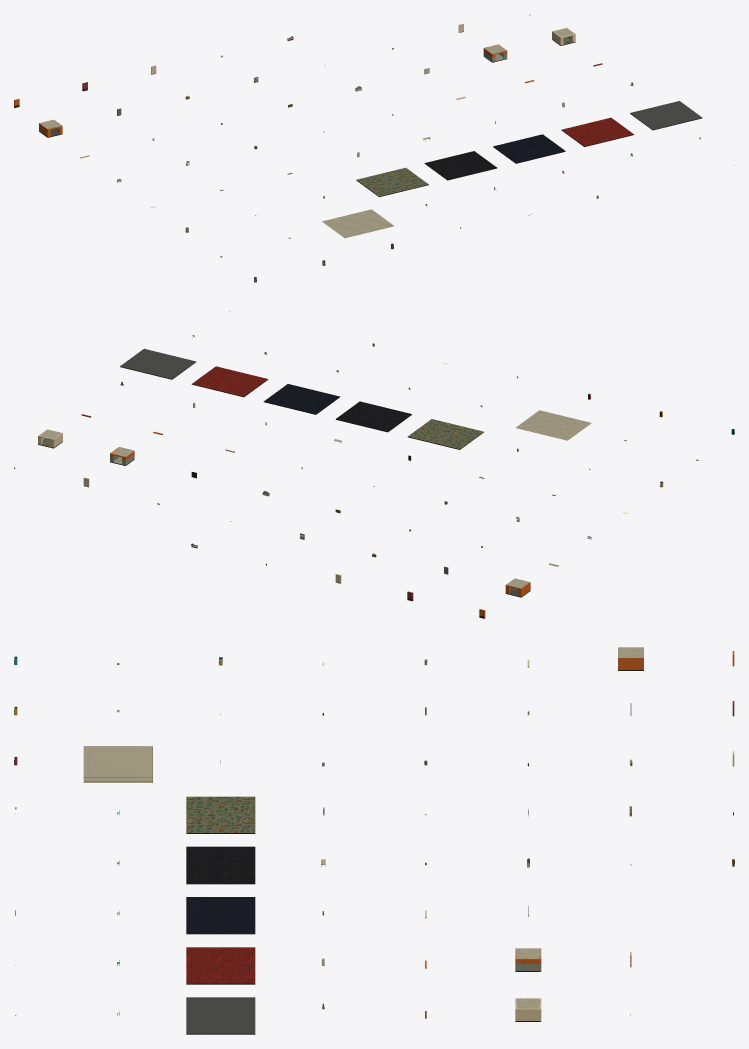
Rendered from Level6_Revised_ReusableKit.fbx.
3 views of the same model, one above another, from view 1: azimuth 30°, elevation 25°; view 2: azimuth 150°, elevation 25°; view 3: azimuth 270°, elevation 25° (orthographic). The views are drawn at different scales.
Parts seen in each view (by area): view 1: L6K_FloorBeige__carpet_beige, L6K_FloorDefault__L6R_carpet_default, L6K_FloorRed__carpet_red, L6K_FloorOrange__carpet_confetti, L6K_FloorService__linoleum, L6K_Ceiling__ceiling; view 2: L6K_FloorDefault__L6R_carpet_default, L6K_FloorBeige__carpet_beige, L6K_FloorRed__carpet_red, L6K_FloorService__linoleum, L6K_FloorOrange__carpet_confetti, L6K_Ceiling__ceiling; view 3: L6K_FloorDefault__L6R_carpet_default, L6K_FloorRed__carpet_red, L6K_FloorService__linoleum, L6K_Ceiling__ceiling, L6K_FloorBeige__carpet_beige, L6K_FloorOrange__carpet_confetti.
Boxes of the visible parts, left/top/right/bottom form: L6K_FloorBeige__carpet_beige: left=356, top=167, right=428, bottom=196; L6K_FloorDefault__L6R_carpet_default: left=425, top=151, right=496, bottom=179; L6K_FloorRed__carpet_red: left=562, top=117, right=633, bottom=146; L6K_FloorOrange__carpet_confetti: left=493, top=134, right=564, bottom=162; L6K_FloorService__linoleum: left=630, top=101, right=701, bottom=129; L6K_Ceiling__ceiling: left=322, top=209, right=394, bottom=237; L6K_FloorDefault__L6R_carpet_default: left=336, top=401, right=411, bottom=431; L6K_FloorBeige__carpet_beige: left=408, top=419, right=483, bottom=449; L6K_FloorRed__carpet_red: left=192, top=366, right=267, bottom=396; L6K_FloorService__linoleum: left=120, top=348, right=195, bottom=378; L6K_FloorOrange__carpet_confetti: left=264, top=384, right=339, bottom=413; L6K_Ceiling__ceiling: left=515, top=410, right=591, bottom=440; L6K_FloorDefault__L6R_carpet_default: left=186, top=846, right=255, bottom=883; L6K_FloorRed__carpet_red: left=186, top=947, right=255, bottom=983; L6K_FloorService__linoleum: left=186, top=997, right=255, bottom=1033; L6K_Ceiling__ceiling: left=83, top=746, right=152, bottom=782; L6K_FloorBeige__carpet_beige: left=186, top=796, right=255, bottom=832; L6K_FloorOrange__carpet_confetti: left=186, top=897, right=255, bottom=933.
Size of the model in its own units: 82200 by 1315 by 66807.
